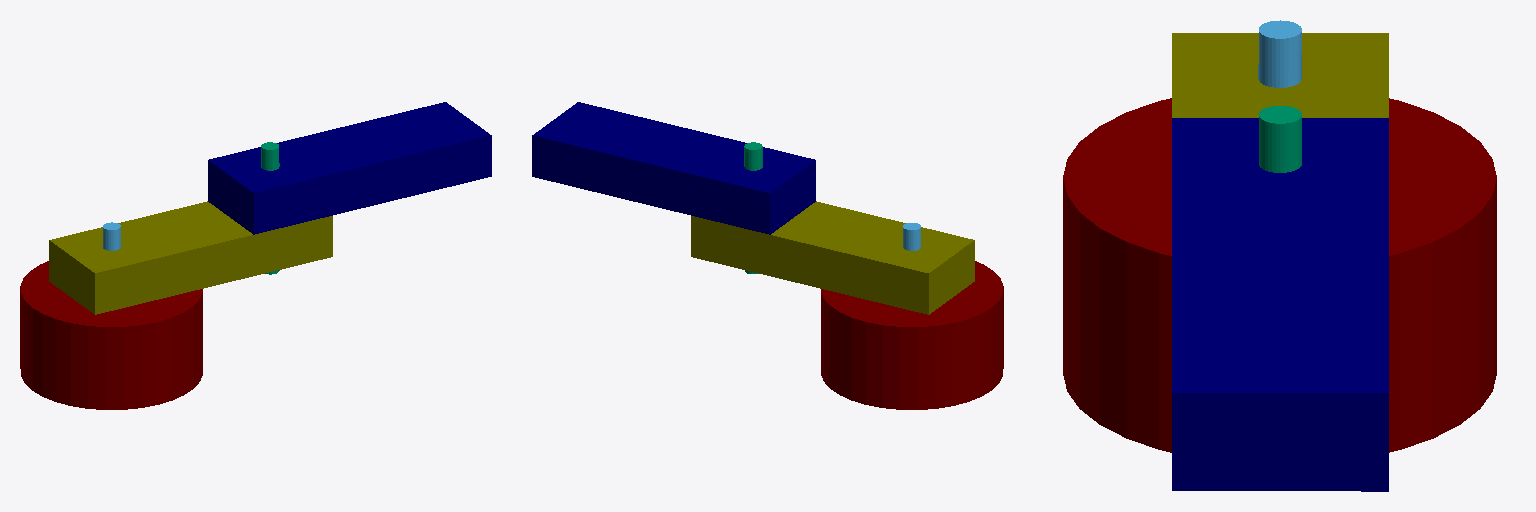
robot.urdf — Motors:
<robot name="Motors">
	<link name="base_link">
		<visual name="">
			<origin xyz="0 0 0.05" rpy="0 0 0"/>
			<geometry>
				<cylinder radius="0.1" length="0.1"/>
			</geometry>
			<material>
			<color rgba="0.5 0 0 1"/>
			</material>
		</visual>

		<collision name="">
			<origin xyz="0 0 0.05" rpy="0 0 0"/>
			<geometry>
				<cylinder radius="0.1" length="0.1"/>
			</geometry>
		</collision>

		<inertial>
			<mass value="5"/>
		</inertial>
	</link>
	
	<link name="arm_link">
	
		<visual name="arm">
			<origin xyz="0.1 0.025 0" rpy="0 0 0"/>
			<geometry>
				<box size="0.3 0.05 0.1"/>
			</geometry>
			<material>
			<color rgba="0.5 0.5 0 1"/>
			</material>
		</visual>
		
		<visual name="shaft">
			<origin xyz="0 0 0" rpy="1.57 0 0"/>
			<geometry>
			<cylinder radius="0.01" length="0.15"/>
			</geometry>
			<material name="">
			
			</material>
		</visual>


		<collision name="">
			<origin xyz="0.1 0.025 0" rpy="0 0 0"/>
			<geometry>
				<box size="0.3 0.05 0.1"/>
			</geometry>
		</collision>

		<inertial>
			<mass value="0.1"/>
		</inertial>
	</link>
	
	<joint name="motor1" type="continuous" visible="true">
		<origin xyz="0 0 0.1" rpy="1.57 0 0"/>
		<parent link="base_link"/>
		<child link="arm_link"/>
		<axis xyz="0.0 1.0 0.0"/>
		<limit effort="10.0" velocity="5.0"/>
	</joint>

	<link name="arm2_link">
		<visual name="arm">
			<origin xyz="0.1 0.025 0" rpy="0 0 0"/>
			<geometry>
				<box size="0.3 0.05 0.1"/>
			</geometry>
			<material>
			<color rgba="0 0 0.5 1"/>
			</material>
		</visual>
		
		<visual name="shaft">
			<origin xyz="0 0 0" rpy="1.57 0 0"/>
			<geometry>
			<cylinder radius="0.01" length="0.15"/>
			</geometry>
			<material name="">
			
			</material>
		</visual>


		<collision name="">
			<origin xyz="0.1 0.025 0" rpy="0 0 0"/>
			<geometry>
				<box size="0.3 0.05 0.1"/>
			</geometry>
		</collision>

		<inertial>
			<mass value="0.01"/>
		</inertial>
	</link>
	
	<joint name="arm2 servo" type="revolute" visible="true">
		<origin xyz="0.2 0.05 0" rpy="0 0 0"/>
		<parent link="arm_link"/>
		<child link="arm2_link"/>
		<axis xyz="0.0 1.0 0.0"/>
		<limit lower="-1.57" upper="1.57" effort="50.0" velocity="5.0"/>
	</joint>
</robot>

--- What the picture shows (computed from the rendered views, not written in the file) ---
The picture shows the robot from 3 angles, left to right: view 1: azimuth 30°, elevation 25°; view 2: azimuth 150°, elevation 25°; view 3: azimuth 270°, elevation 25°; orthographic projection.
Model Motors with 3 links and 2 joints (1 revolute, 1 continuous), rooted at base_link, posed all joints at 0.
Links seen in each view (by area): view 1: arm2_link, base_link, arm_link; view 2: arm2_link, base_link, arm_link; view 3: arm2_link, base_link, arm_link.
Link boxes in pixels (bbox=[...]): arm2_link: bbox=[208, 102, 491, 274]; base_link: bbox=[20, 261, 202, 409]; arm_link: bbox=[49, 201, 332, 314]; arm2_link: bbox=[532, 102, 815, 273]; base_link: bbox=[821, 261, 1003, 409]; arm_link: bbox=[691, 201, 974, 314]; arm2_link: bbox=[1172, 106, 1388, 491]; base_link: bbox=[1063, 98, 1496, 452]; arm_link: bbox=[1172, 20, 1388, 117].
Bounding box of the posed robot: 0.55 × 0.2 × 0.225 m (x, y, z).
Geometry: primitives only (box / cylinder / sphere), no mesh files.